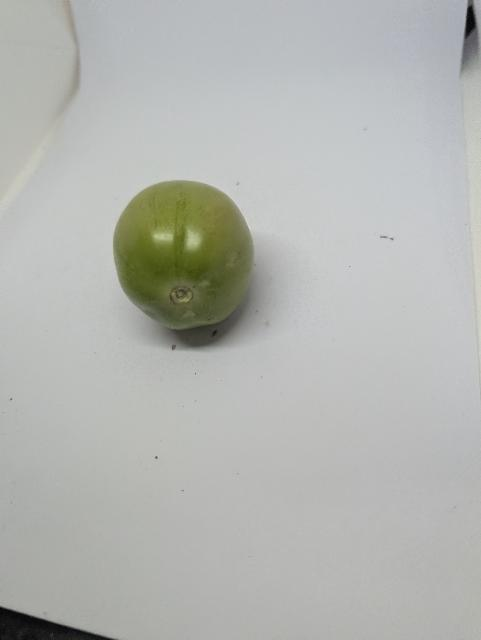green: (112, 177, 260, 333)
